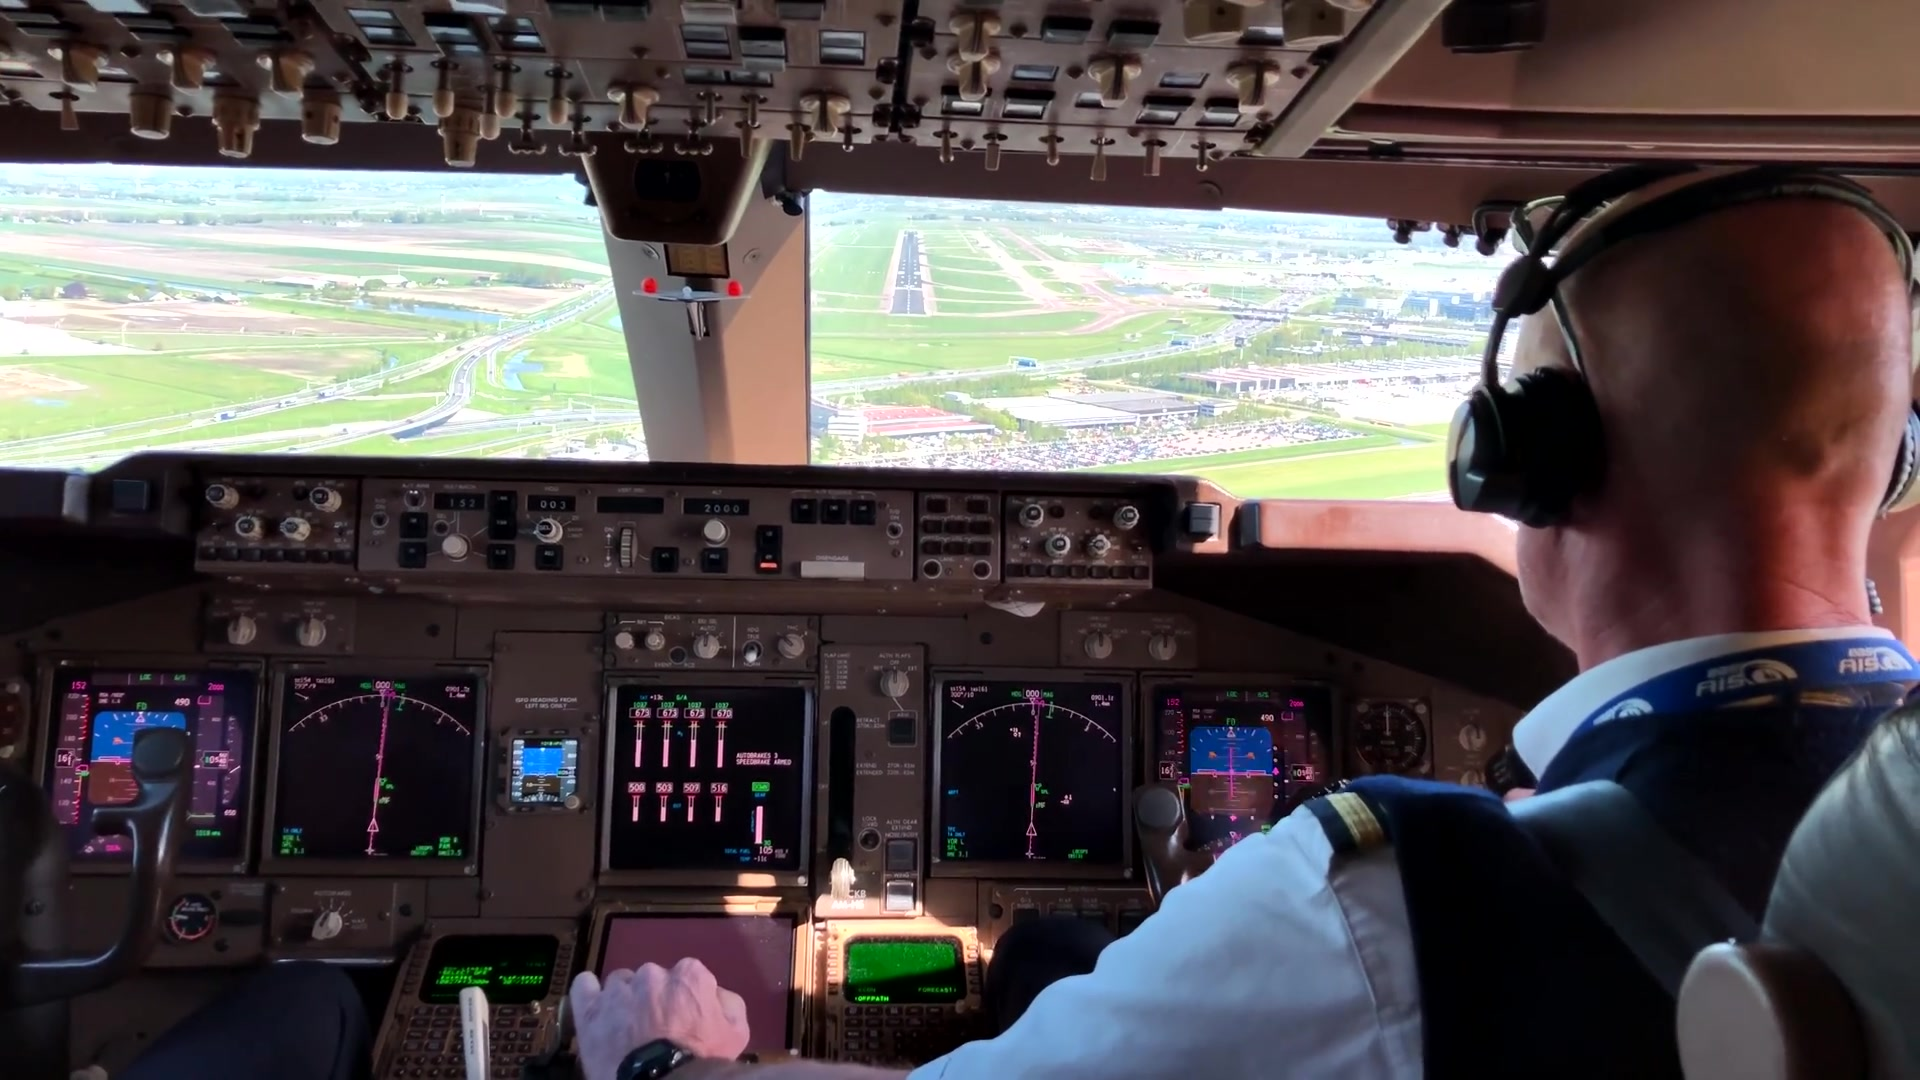runway: (887, 233, 927, 316)
